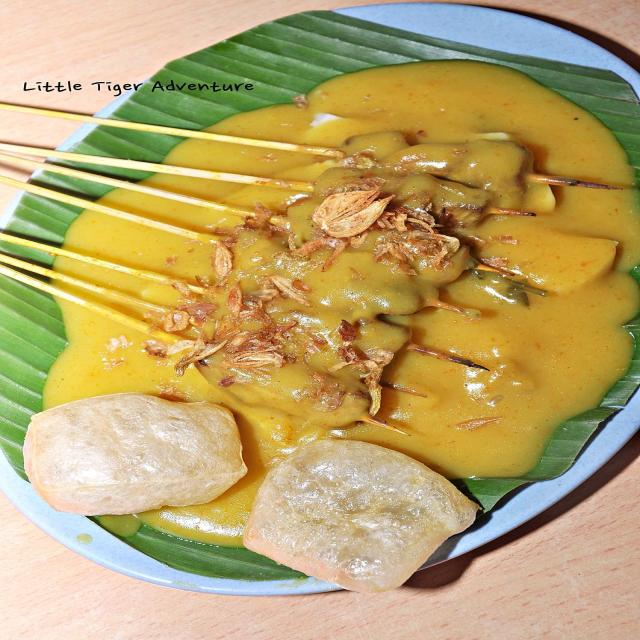Sate: (17, 109, 610, 430)
